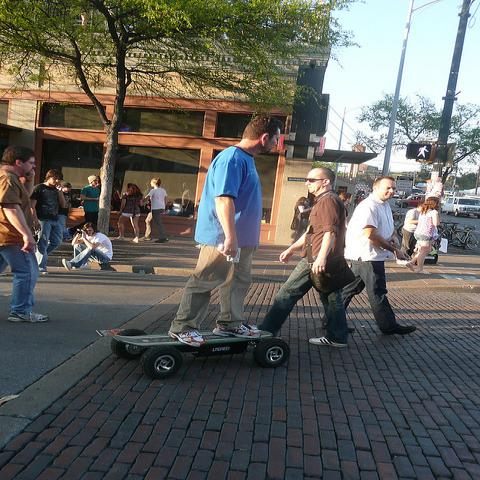car: (442, 197, 480, 218), (394, 196, 424, 208), (392, 192, 400, 198)
